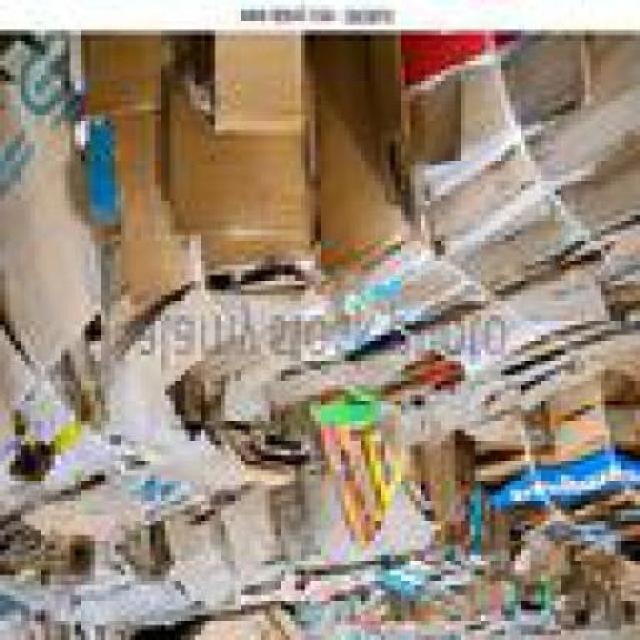CARDBOARD: (0, 40, 637, 638), (235, 35, 636, 440), (75, 36, 310, 316), (170, 440, 470, 615), (0, 40, 120, 420), (100, 290, 291, 495), (20, 420, 305, 555), (480, 46, 635, 294), (470, 370, 635, 565), (164, 40, 316, 245), (298, 509, 512, 638), (300, 40, 411, 280), (0, 380, 100, 531), (504, 540, 636, 638), (0, 525, 165, 590), (0, 584, 191, 638), (206, 40, 306, 140), (170, 610, 302, 638)
